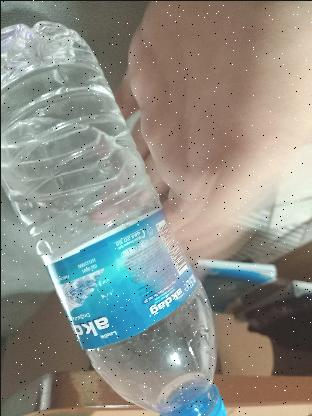Plastic Bottle: (0, 18, 234, 416)
